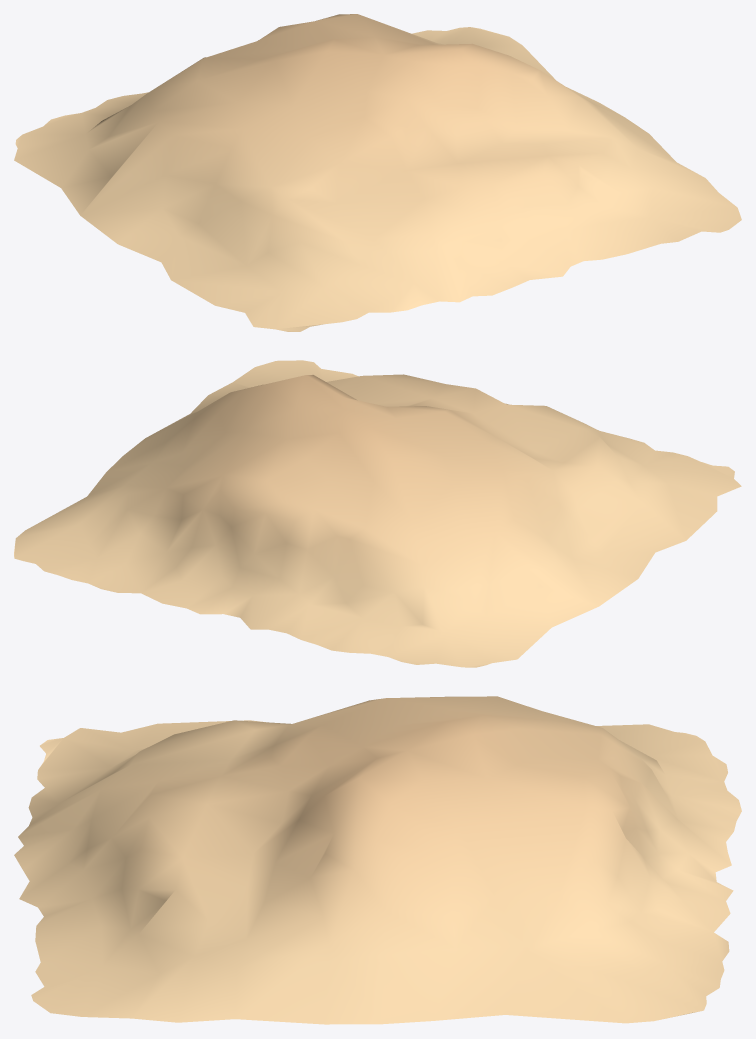
The model's file is Terrain 3.glb.
3 views of the same model, one above another, from view 1: azimuth 30°, elevation 25°; view 2: azimuth 150°, elevation 25°; view 3: azimuth 270°, elevation 25° (orthographic). The views are drawn at different scales.
Parts seen in each view (by area): view 1: Terrain3; view 2: Terrain3; view 3: Terrain3.
Part boxes in pixels (x1,y1,x2,y2): Terrain3: (14, 14, 741, 331); Terrain3: (14, 360, 741, 667); Terrain3: (14, 696, 741, 1024).
Size of what is drawn, in the model's own units: 7.09 by 1.57 by 7.12.
Materials: 1 (1 with a texture image).
